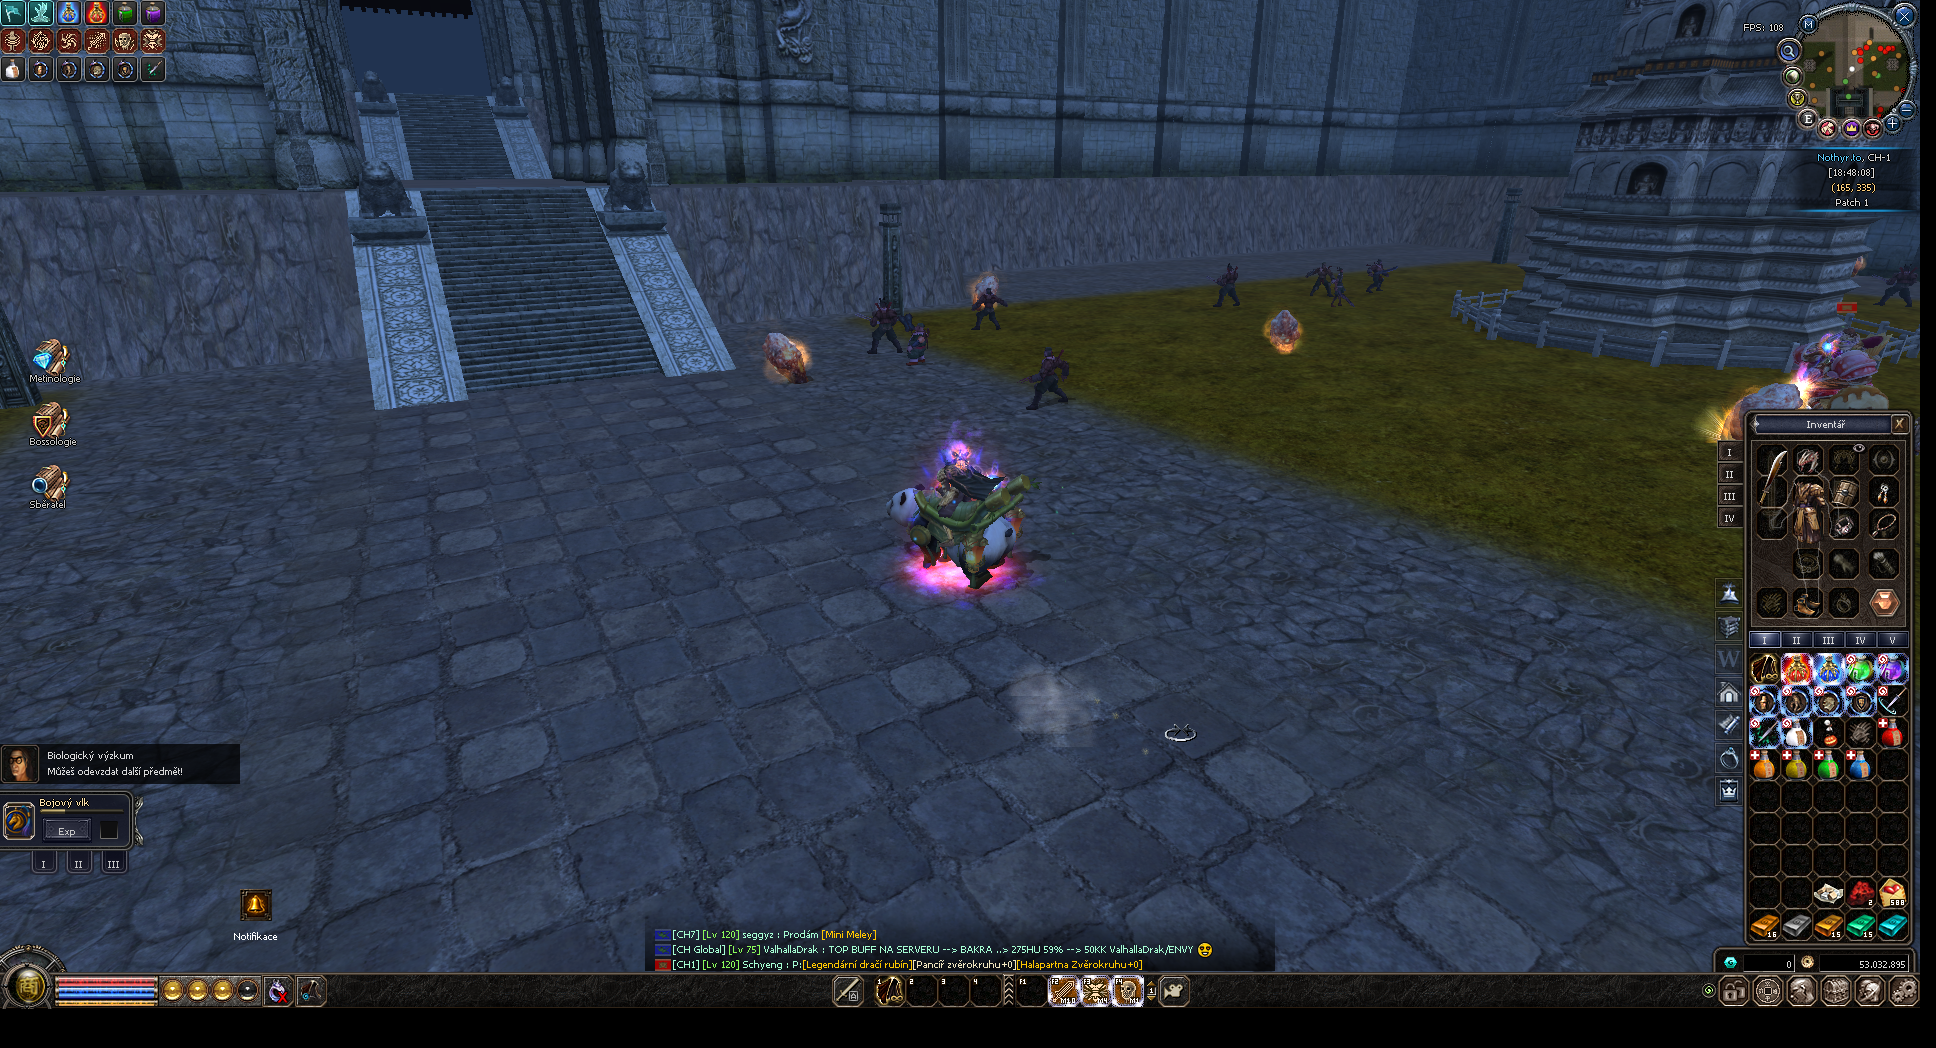Buff: (1717, 379, 1803, 447), (763, 325, 812, 387), (1267, 308, 1301, 354), (976, 274, 1000, 312)
Enemy: (1030, 348, 1067, 410), (869, 297, 905, 352), (967, 290, 1007, 328), (1888, 261, 1918, 308), (903, 323, 932, 365), (1363, 259, 1399, 292), (1216, 263, 1242, 307), (1329, 267, 1350, 307), (1310, 262, 1332, 297)
Me: (891, 454, 1018, 577)
Statue: (1786, 327, 1896, 418)
